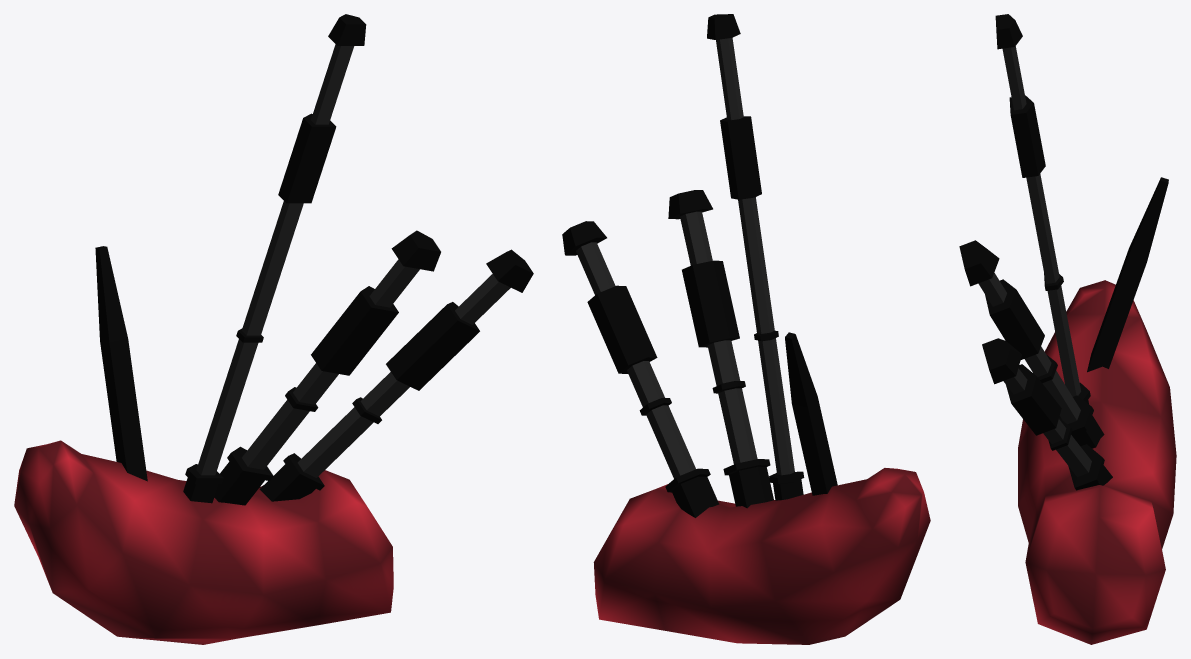
File: Bagpipes.fbx
3 renders of one model, left to right at view 1: azimuth 30°, elevation 25°; view 2: azimuth 150°, elevation 25°; view 3: azimuth 270°, elevation 25°, orthographic. The views are drawn at different scales.
Visible parts, largest first — view 1: Bagpipes; view 2: Bagpipes; view 3: Bagpipes.
Part boxes in pixels (x1,y1,x2,y2): Bagpipes: (14, 14, 533, 644); Bagpipes: (562, 14, 930, 644); Bagpipes: (959, 14, 1176, 644).
Size of the model in its own units: 0.9901 by 1.35 by 0.4442.
